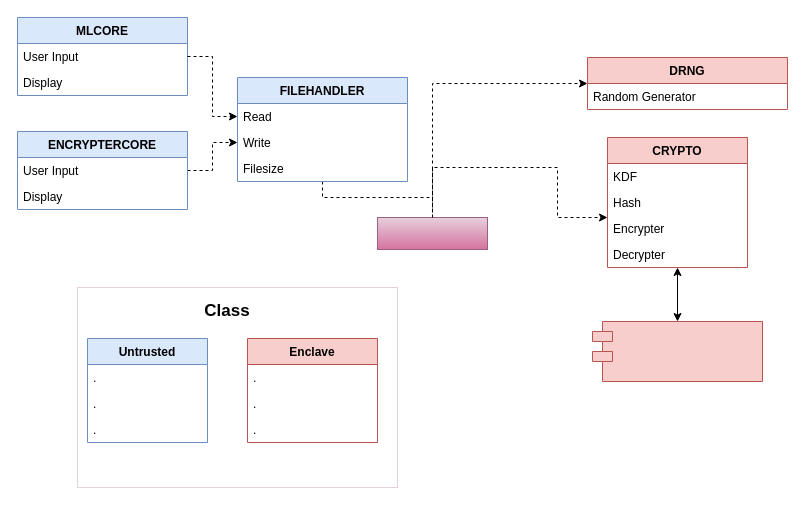
This 805x505 diagram has some shape labels left out. Here are the shapes that lost their labels. From the top down, the centre of each, then its label:
At (432,233): "Bridge Functions".
At (677,351): "ML ENCLAVE".
